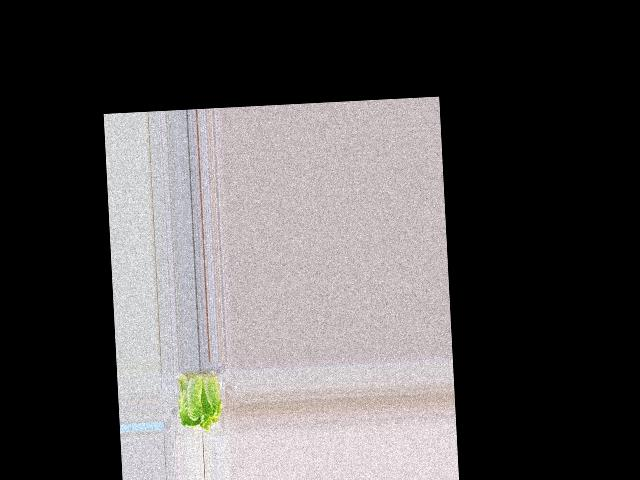lettuce: (177, 373, 223, 432)
